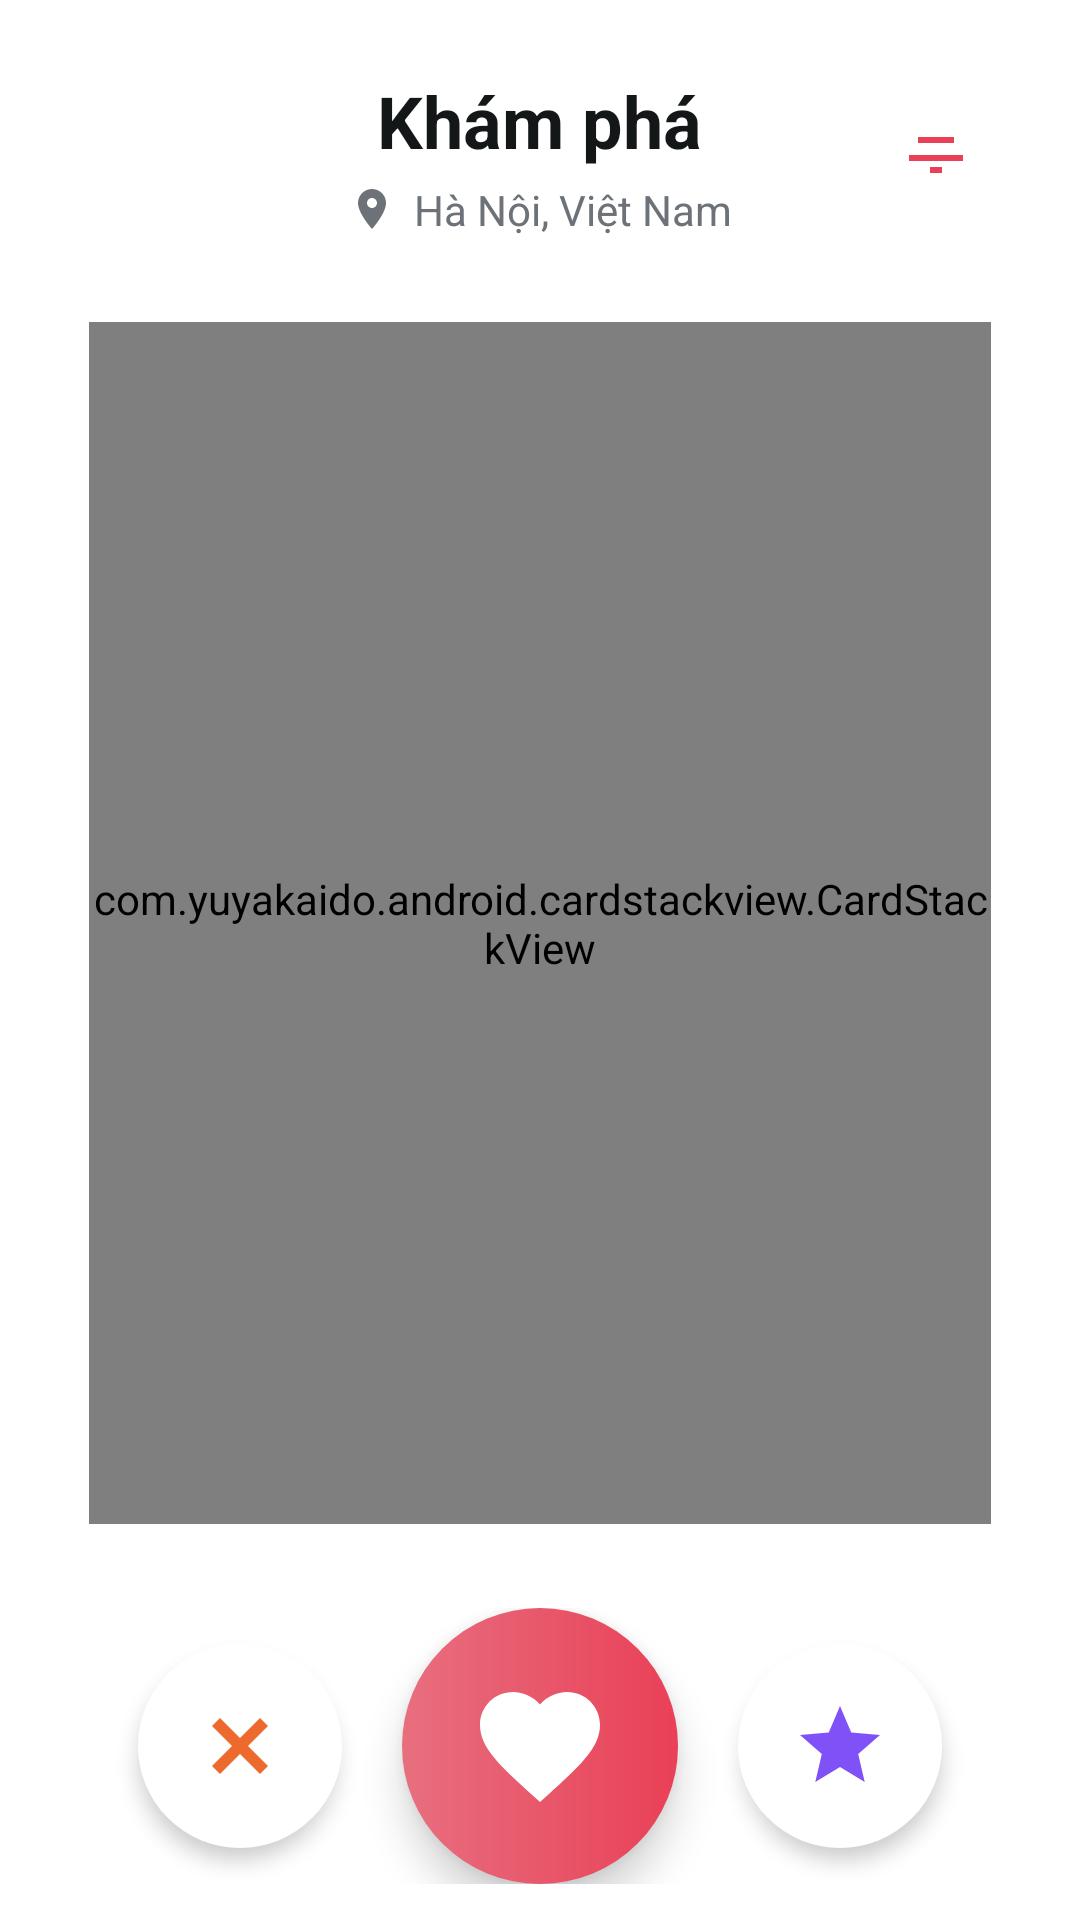

Point at icon controls on the screen. Image size 1080 × 1920, points as (x=x, y=y).
Bộ lọc kết đôi: (x=936, y=155)
Cực thích: (x=840, y=1744)
Không thích: (x=240, y=1746)
Thích: (x=540, y=1747)
